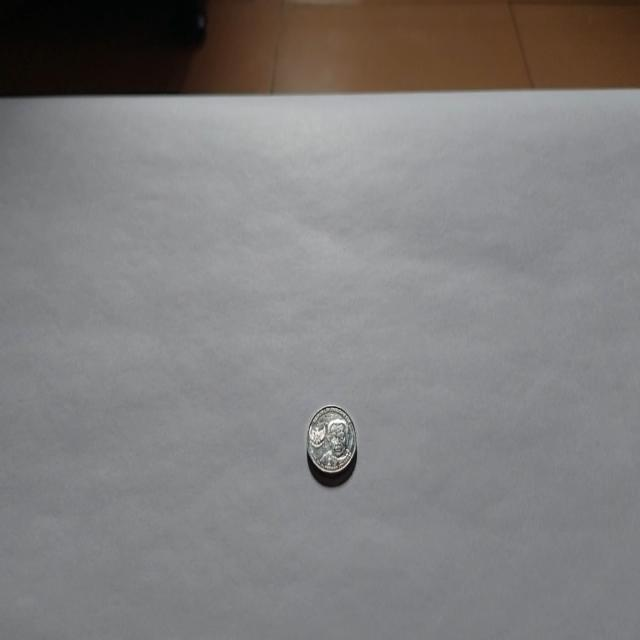seratus rupiah: (306, 402, 356, 482)
